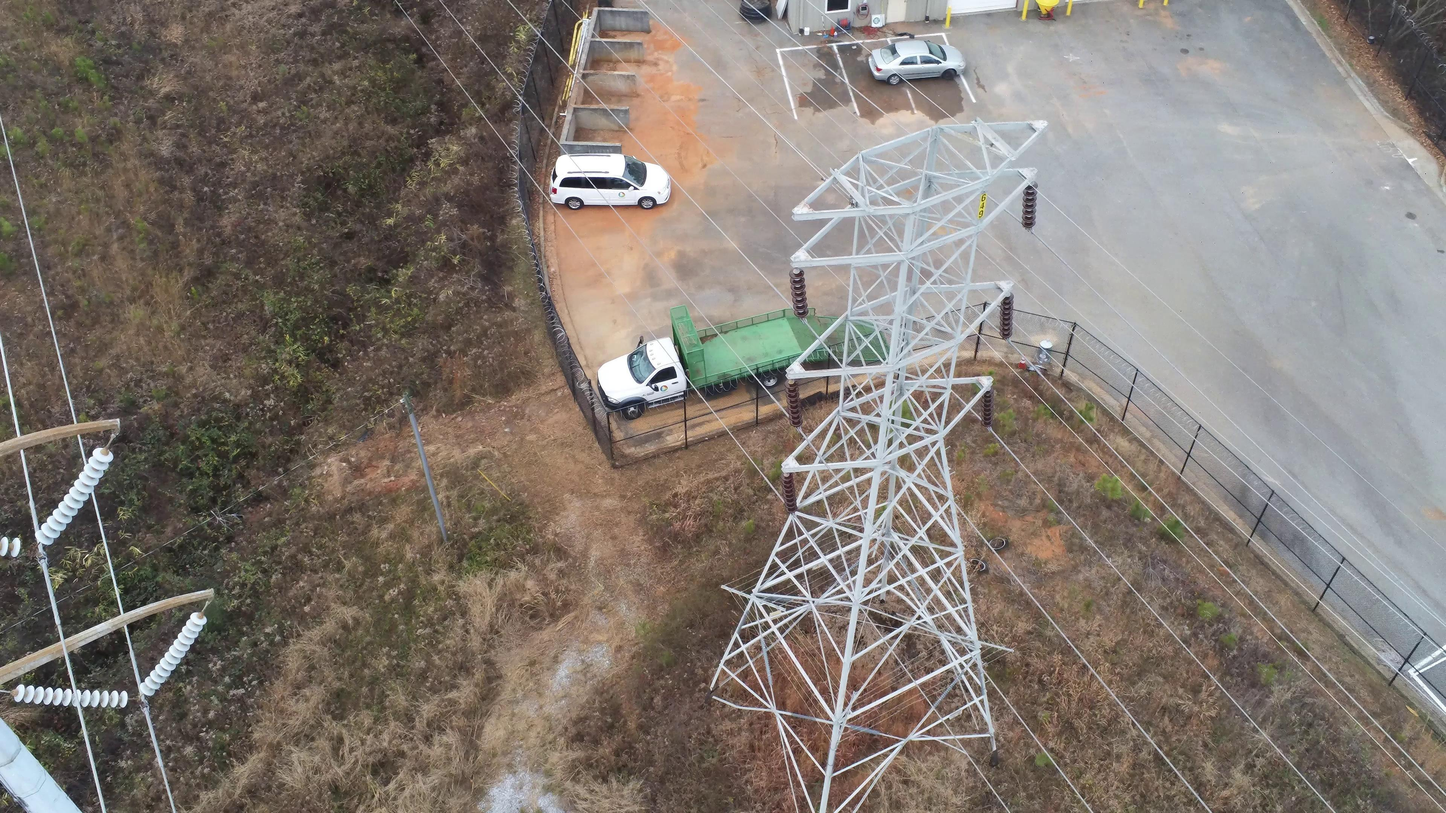power_tower: (704, 116, 1049, 813), (0, 419, 219, 813)
